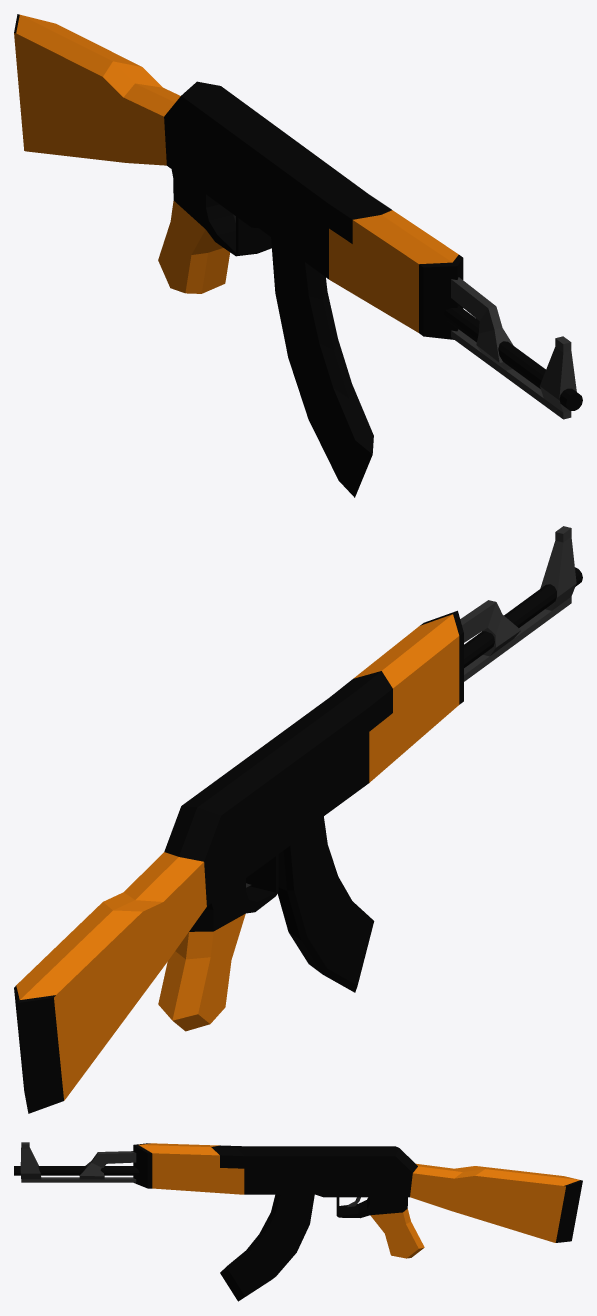
3 renders of one model, top to bottom at view 1: azimuth 30°, elevation 25°; view 2: azimuth 150°, elevation 25°; view 3: azimuth 270°, elevation 25°, orthographic. The views are drawn at different scales.
Parts seen in each view (by area): view 1: Weapon_AK; view 2: Weapon_AK; view 3: Weapon_AK.
Boxes of the visible parts, left/top/right/bottom form: Weapon_AK: left=14, top=14, right=582, bottom=497; Weapon_AK: left=14, top=526, right=582, bottom=1113; Weapon_AK: left=14, top=1142, right=582, bottom=1301.
Bounding box in the file's own units: 3.19 × 23.71 × 77.19.
